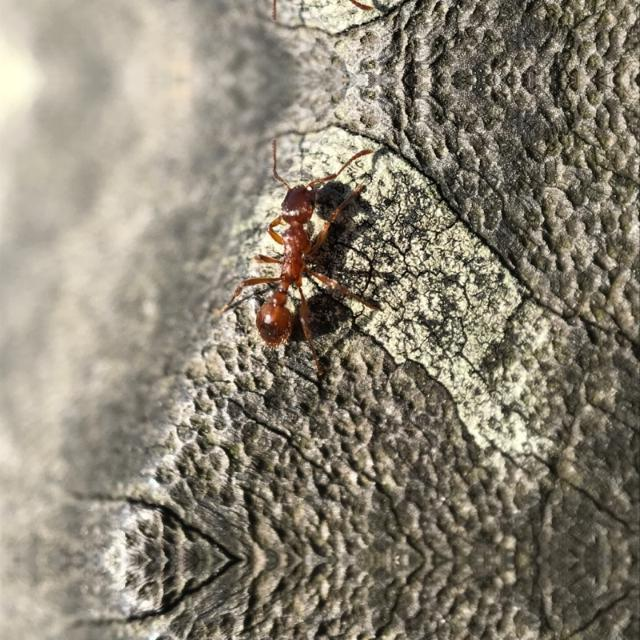Myrmica: (205, 151, 367, 361)
